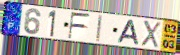1: (48, 10, 57, 38)
6: (23, 8, 42, 35)
A: (116, 19, 141, 46)
F: (68, 12, 92, 40)
I: (95, 14, 104, 43)
X: (140, 20, 162, 50)
